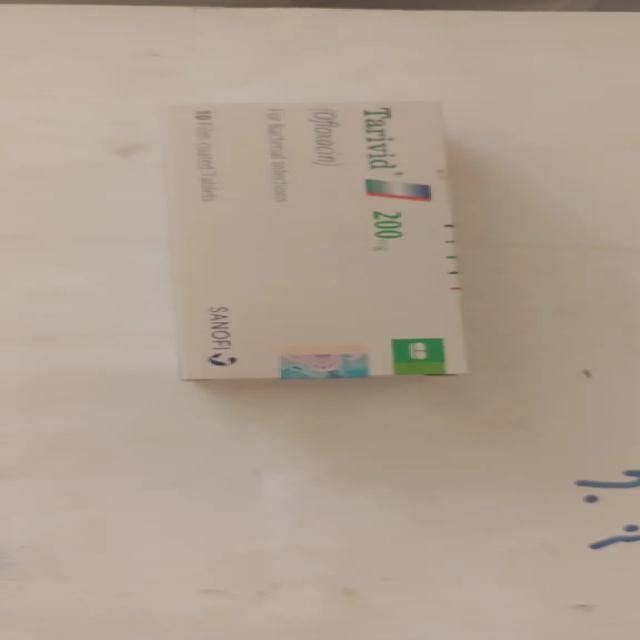drug-name: (358, 104, 410, 248)
